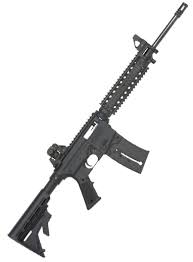gun: (6, 1, 189, 253)
